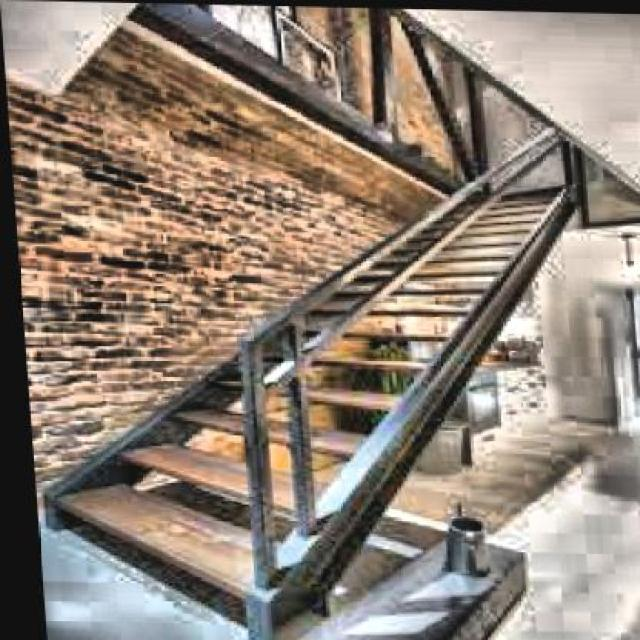stair: (10, 178, 628, 617)
